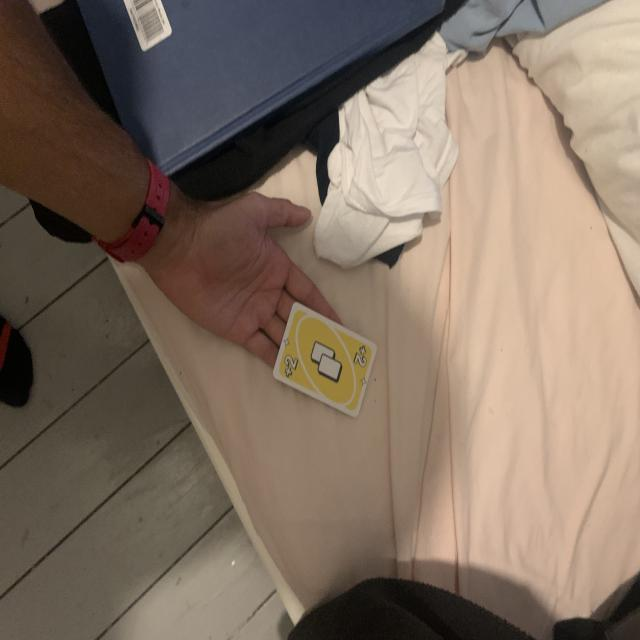lyellow-20: (281, 350, 301, 382)
